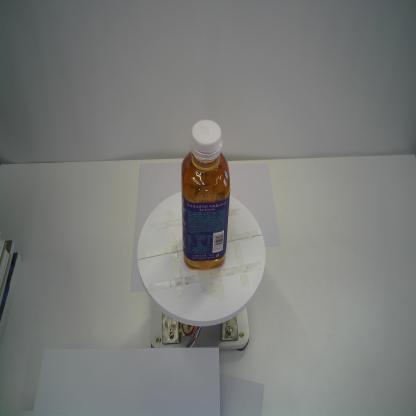Drink: (179, 118, 231, 272)
